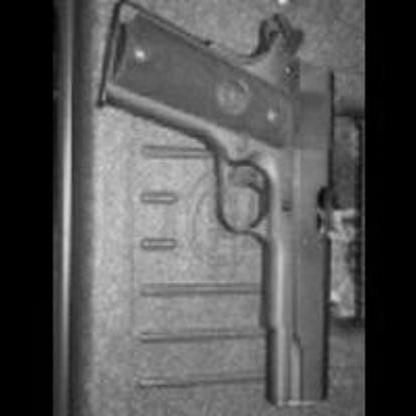weapon: (98, 4, 335, 413)
